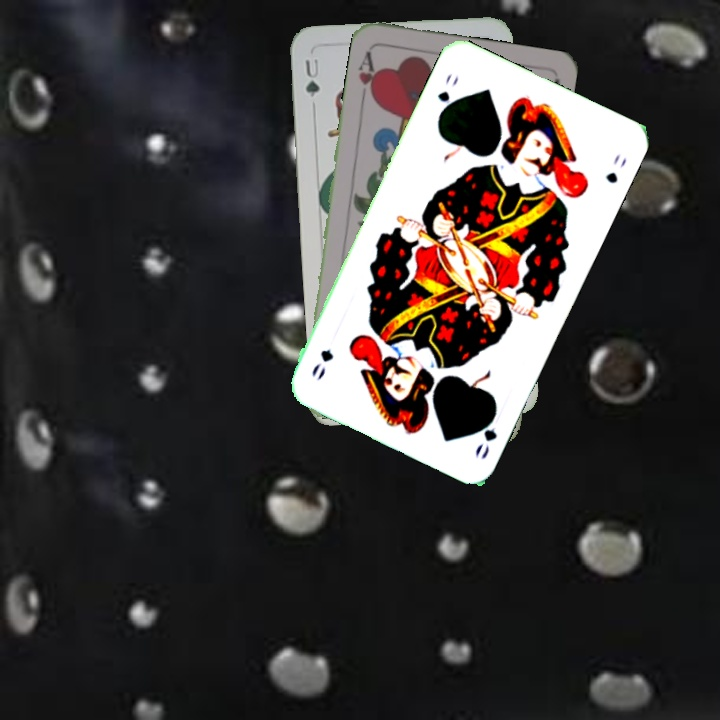GO: (471, 404, 500, 462), (433, 70, 462, 120)
GU: (301, 54, 323, 100)
HA: (354, 47, 381, 105)
